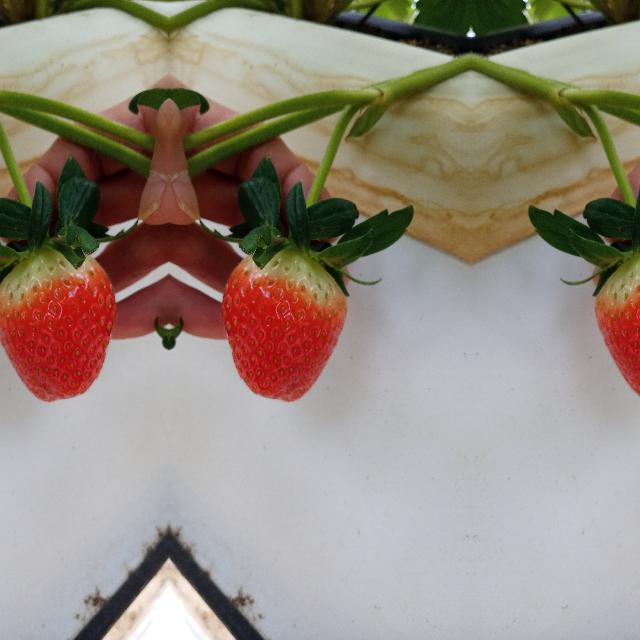Health_75: (220, 246, 346, 402), (0, 246, 116, 402), (594, 246, 640, 402)
